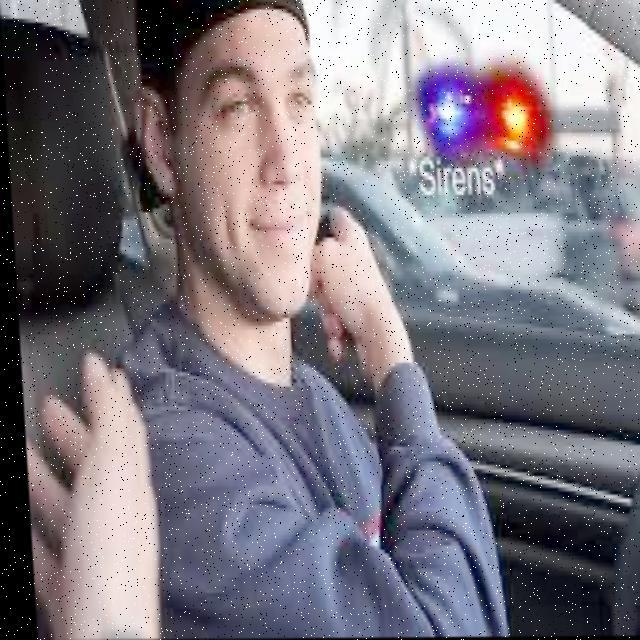noSeatbelt: (96, 298, 428, 640)
